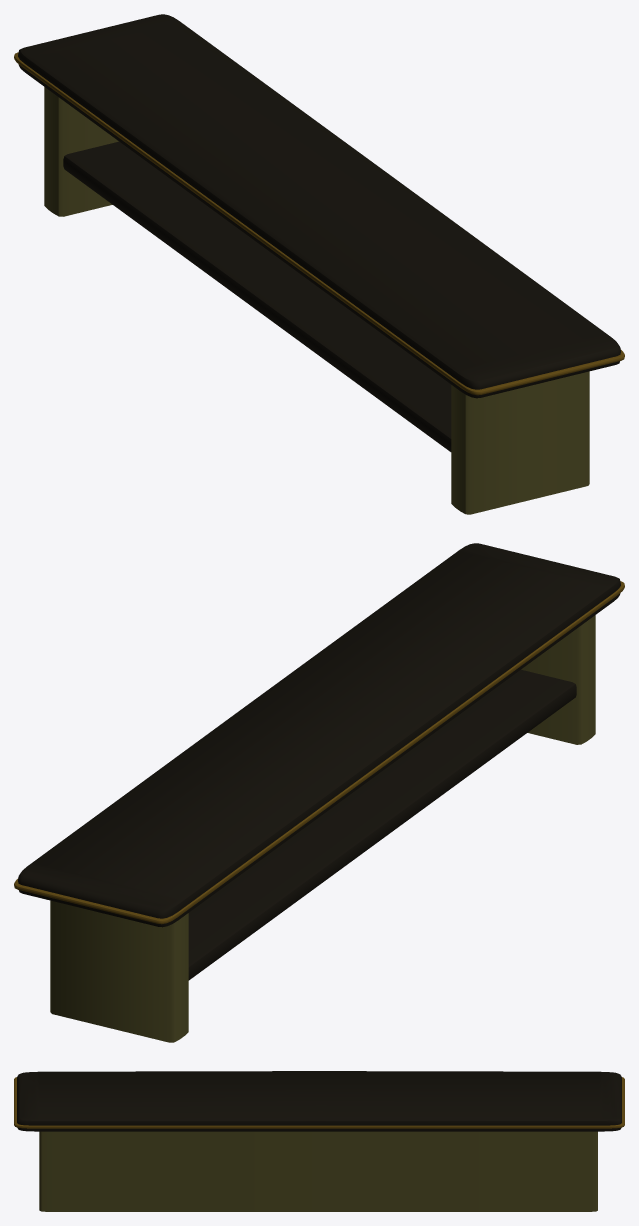
The model's file is SM_Counter.fbx.
3 views of the same model, one above another, from view 1: azimuth 30°, elevation 25°; view 2: azimuth 150°, elevation 25°; view 3: azimuth 270°, elevation 25° (orthographic). The views are drawn at different scales.
Visible parts, largest first — view 1: Countertop; view 2: Countertop; view 3: Countertop.
Boxes of the visible parts, x1,y1,x2,y2 form: Countertop: (14,14,624,514); Countertop: (14,543,624,1042); Countertop: (14,1071,624,1211).
Size of the model in its own units: 39.34 by 35.65 by 202.
